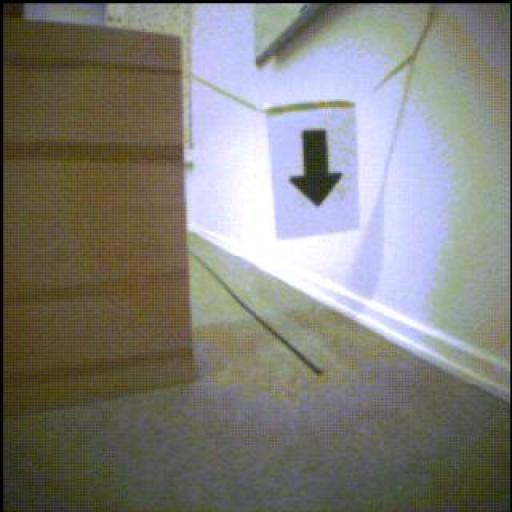Arrow: (291, 131, 344, 208)
